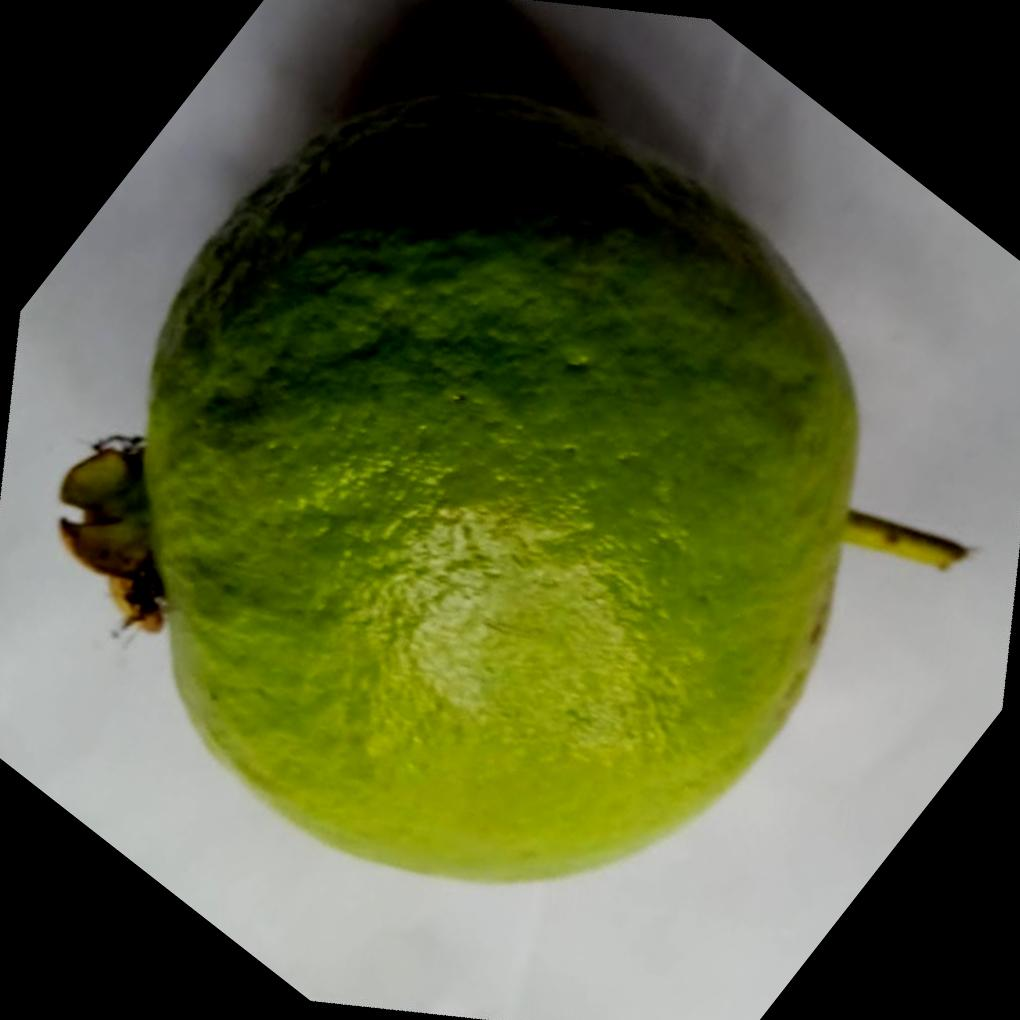FreshGuava: (62, 80, 915, 885)
